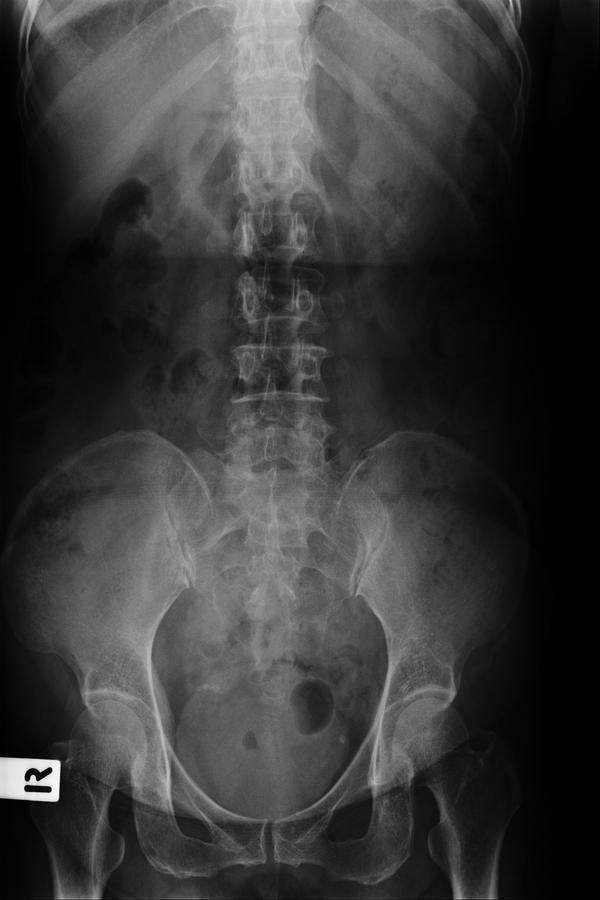not lumbar scoliosis: (222, 176, 328, 584)
